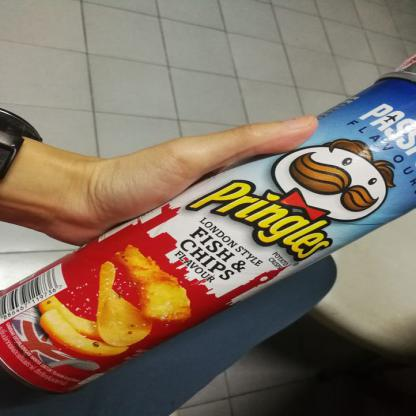potatochip: (0, 70, 415, 396)
